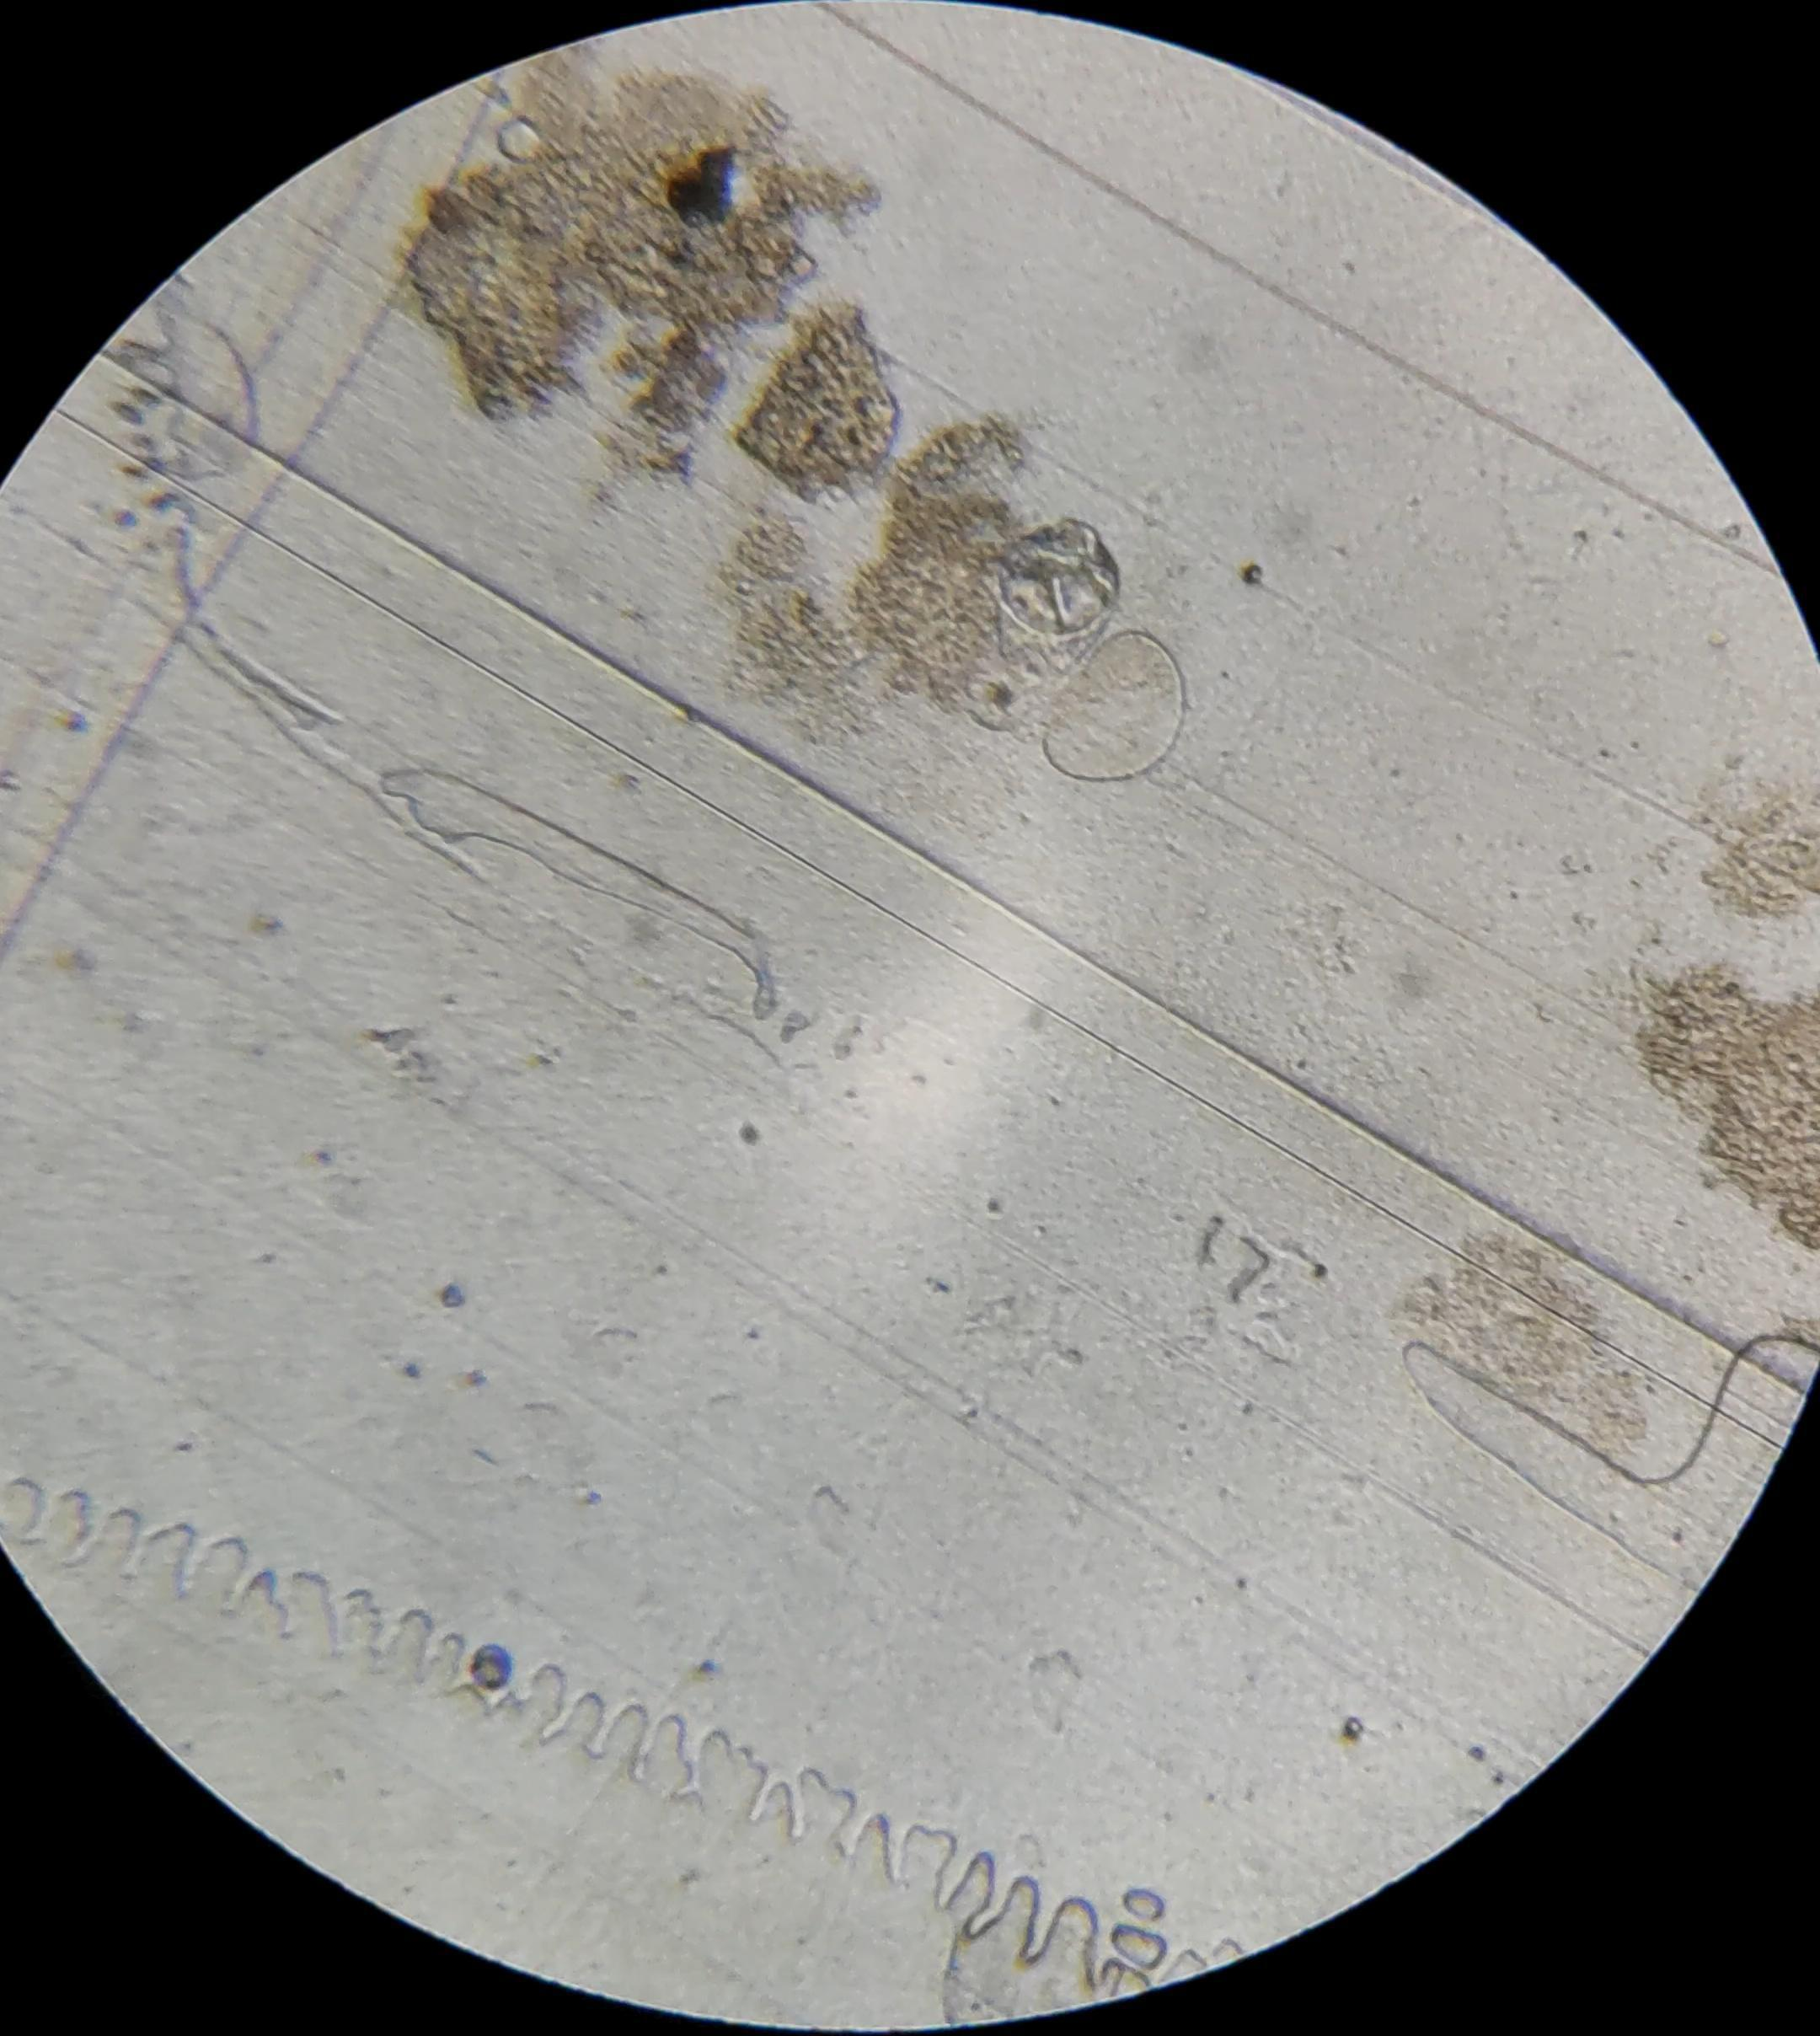Mo: (998, 518, 1119, 706)
